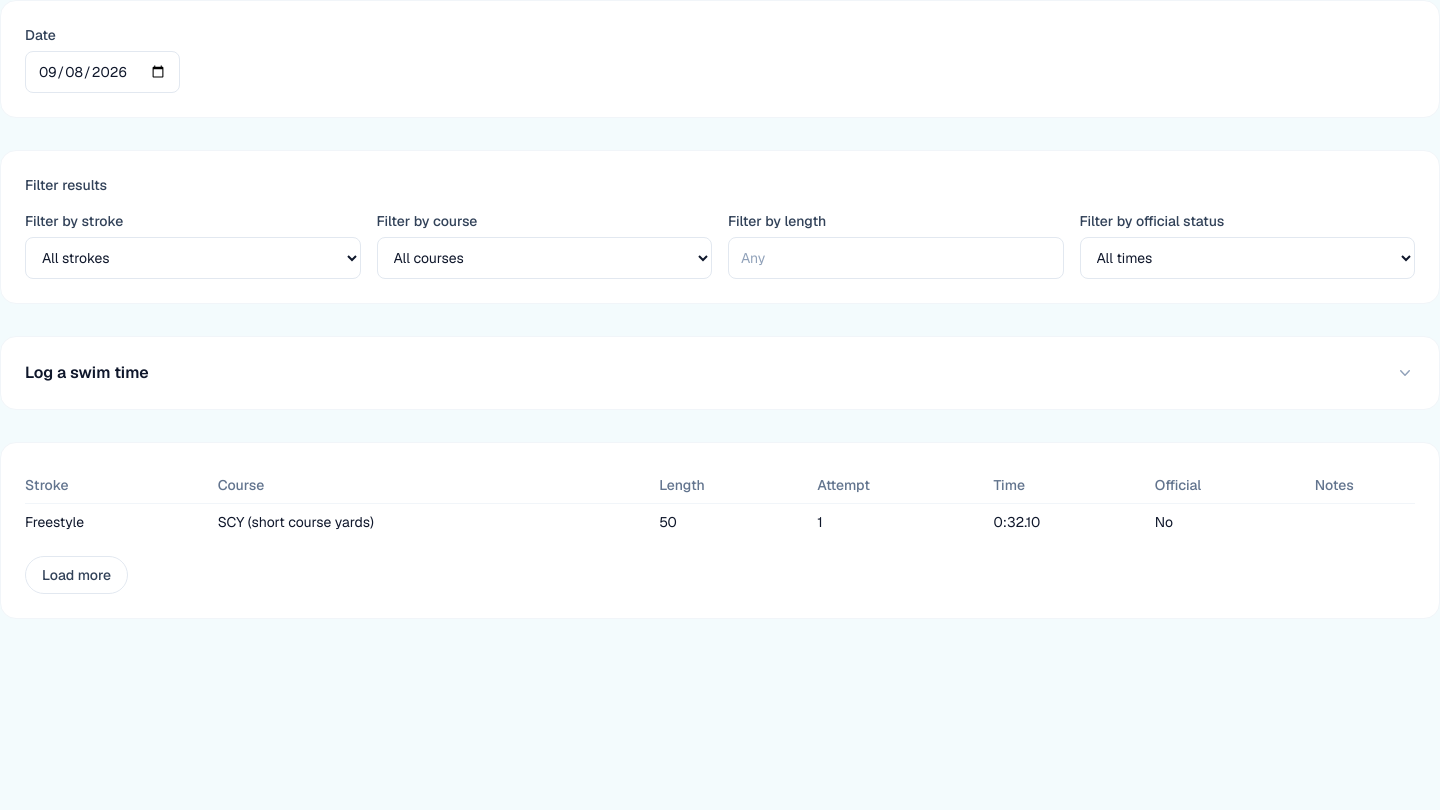
Test: SwimLog › shows a Load more button when next_cursor is present, and appends the next page
expect the text "0:32.10" is shown: met, box [994,504,1155,540]
What coordinates should you click on to do the following:
click the button "Load more"
I would click on:
 (76, 575)
Its box is [25,556,128,594].
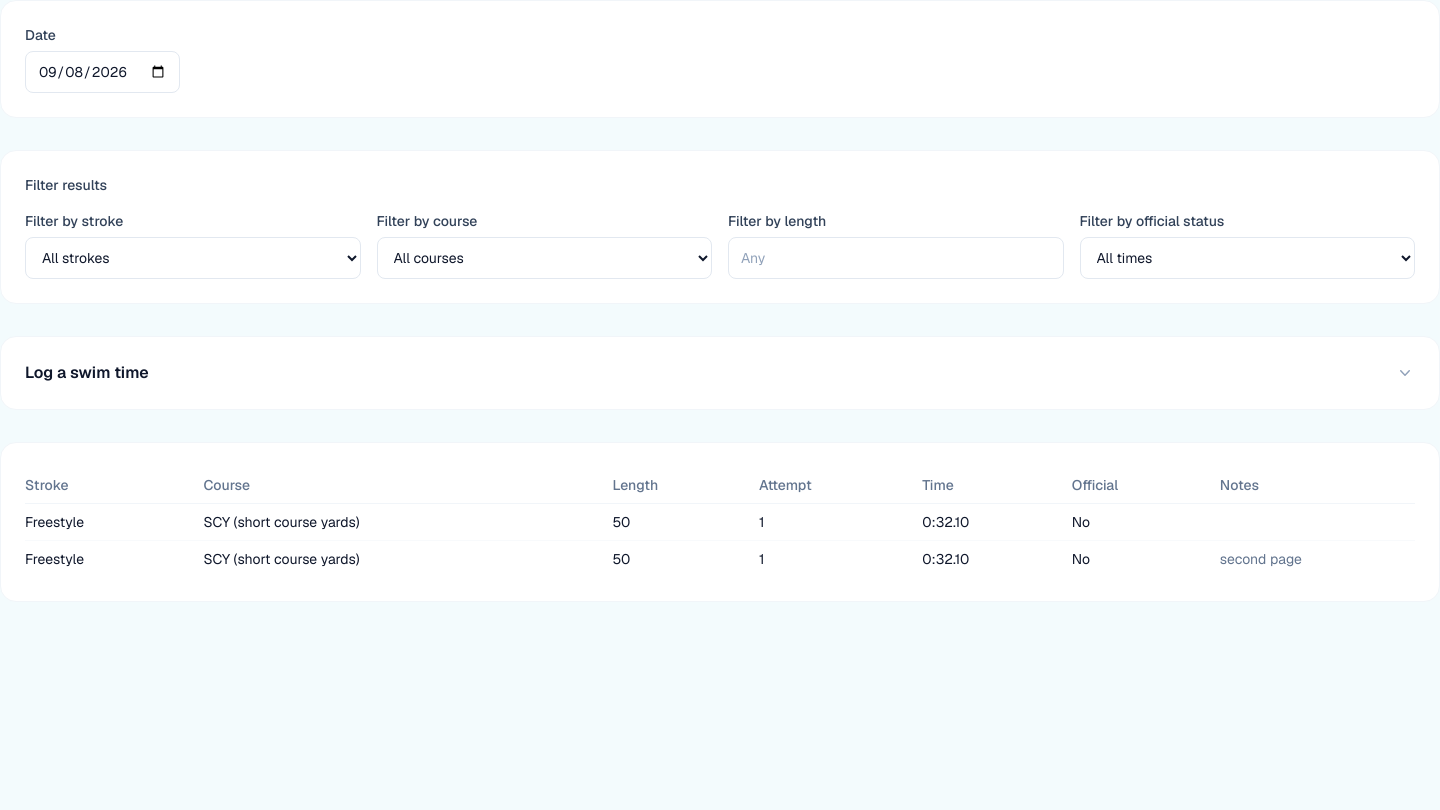
expect the text "second page" is shown: met, box [1220,540,1415,577]
expect the button "Load more" is gone: met
